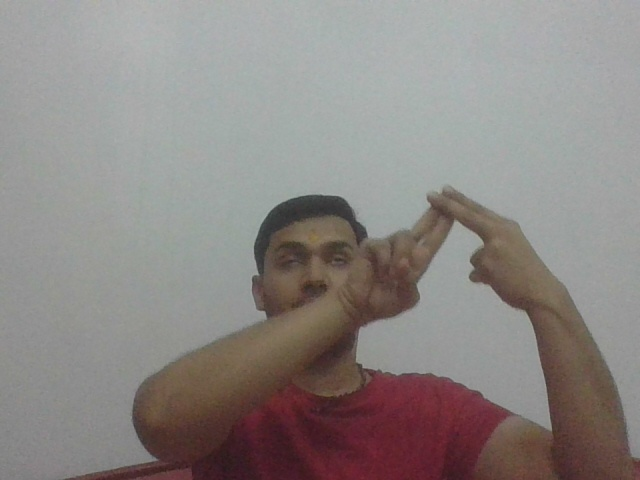F: (360, 184, 555, 312)
